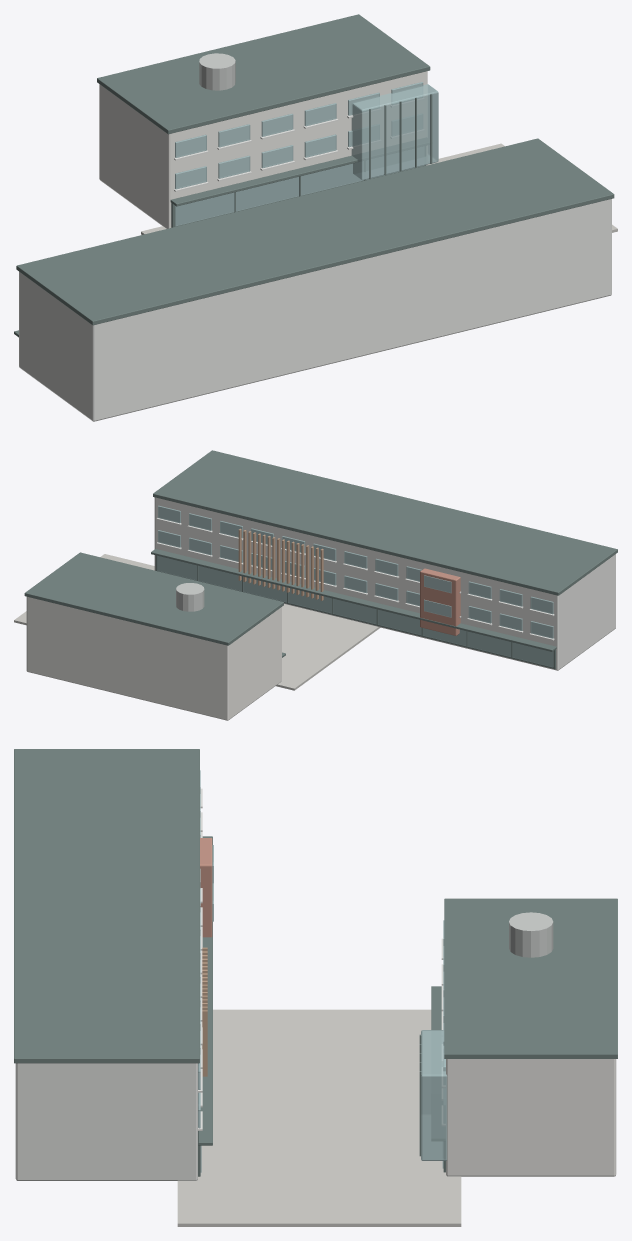
File: xingfuli-east-identity.glb
3 renders of one model, top to bottom at view 1: azimuth 30°, elevation 25°; view 2: azimuth 150°, elevation 25°; view 3: azimuth 270°, elevation 25°, orthographic. The views are drawn at different scales.
Visible parts, largest first — view 1: xingfuli-east-identity; view 2: xingfuli-east-identity; view 3: xingfuli-east-identity.
Part boxes in pixels (<box>): xingfuli-east-identity: <box>14,14,617,421</box>; xingfuli-east-identity: <box>14,450,617,720</box>; xingfuli-east-identity: <box>14,749,617,1226</box>.
Size of the model in its own units: 41.09 by 8.38 by 29.83.
